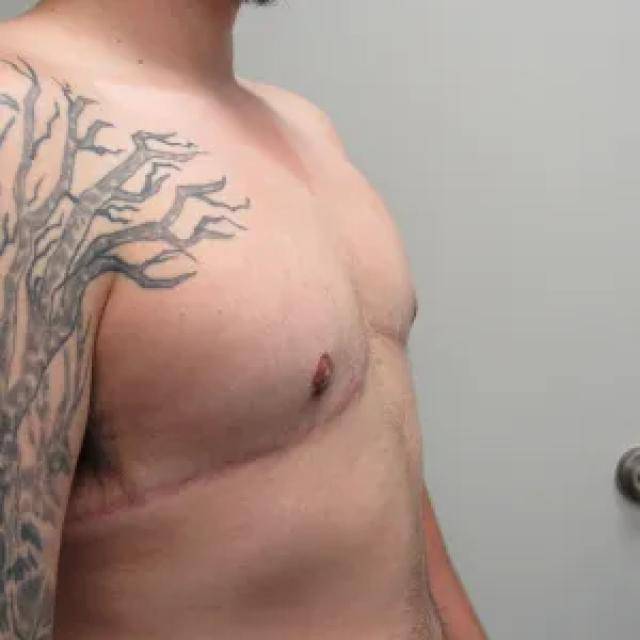Seno herido: (58, 153, 366, 543), (372, 153, 432, 364)
